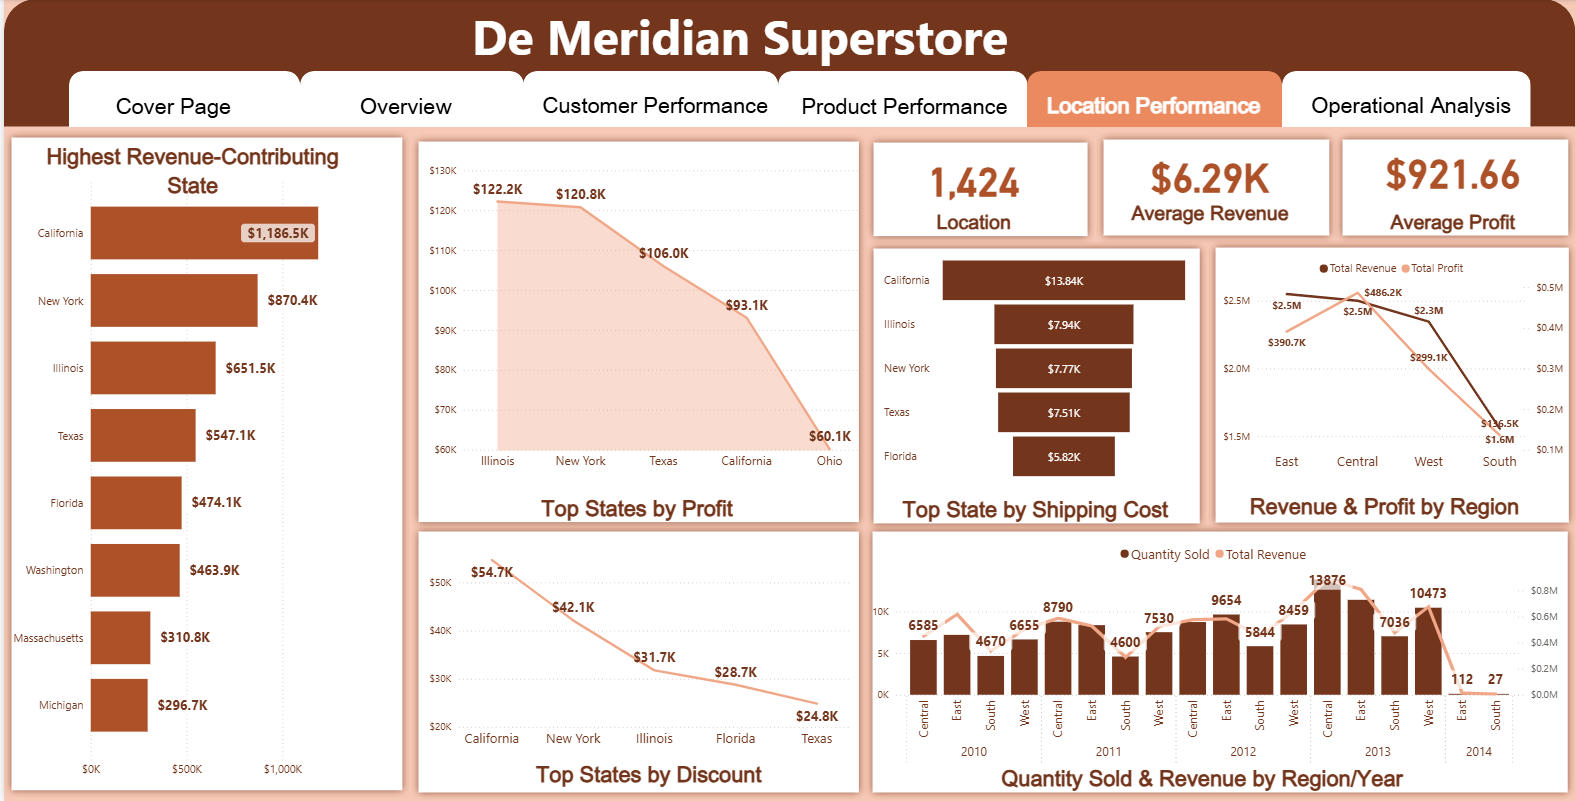

The dashboard page shown, as its layout file describes it:
{"tool":"powerbi","page":{"name":"Location Performance","canvas":[1920,980],"ordinal":4},"visuals":[{"type":"shape","box":[0,160,496,816],"z":0,"group":"g1"},{"type":"shape","box":[0,0,1920,156.1],"z":1000,"group":"g1"},{"type":"shape","box":[79,87.8,282.5,68.8],"z":2000,"group":"g1"},{"type":"shape","box":[361.5,87.8,273.8,68.8],"z":3000,"group":"g1"},{"type":"shape","box":[634.2,88,312,68.5],"z":4000,"group":"g1"},{"type":"shape","box":[946,87.8,305,68.8],"z":5000,"group":"g1"},{"type":"shape","box":[1250,88,311.8,68.5],"z":6000,"group":"g1"},{"type":"shape","box":[1561.8,88,304,68.5],"z":7000,"group":"g1"},{"type":"textbox","box":[566.7,0,685.7,89.3],"z":9000,"group":"g1"},{"type":"textbox","box":[107.7,107.5,198.8,48.8],"z":10000,"group":"g1"},{"type":"textbox","box":[406.4,108.1,167.5,47.5],"z":11000,"group":"g1"},{"type":"textbox","box":[646.6,106.2,299,51.1],"z":12000,"group":"g1"},{"type":"textbox","box":[965.2,107.5,270,48.8],"z":13000,"group":"g1"},{"type":"textbox","box":[1265.6,106.2,278,51.1],"z":14000,"group":"g1"},{"type":"textbox","box":[1570.8,106.6,296.3,50.5],"z":15000,"group":"g1"},{"type":"shape","box":[1333.9,162.8,294.3,135.7],"z":18000,"group":"g1"},{"type":"shape","box":[1626.7,162.5,294.3,135.7],"z":19000,"group":"g1"},{"type":"shape","box":[497.7,165.1,556.7,483.5],"z":20000,"group":"g1"},{"type":"shape","box":[1053.8,295.3,417.1,354.3],"z":21000,"group":"g1"},{"type":"shape","box":[1471.1,295,450.2,354.5],"z":22000,"group":"g1"},{"type":"shape","box":[497.7,641.6,556.7,337.3],"z":23000,"group":"g1"},{"type":"shape","box":[1052,641.6,868,337.3],"z":24000,"group":"g1"},{"type":"textbox","box":[650.8,599,244.5,47.9],"z":25000,"group":"g1"},{"type":"areaChart","fields":{"Y":["Measures (2).Total Profit"],"Category":["Locations.State or Province"]},"box":[514.2,195.8,540.1,389.2],"z":26000,"group":"g1"},{"type":"textbox","box":[1080,600,360,48],"z":27000,"group":"g1"},{"type":"clusteredBarChart","fields":{"Y":["Measures (2).Total Revenue"],"Category":["Locations.State or Province"]},"box":[0,208,480,752],"z":28000,"group":"g1"},{"type":"textbox","box":[18.1,168.2,424.4,81.5],"z":29000,"group":"g1"},{"type":"funnel","fields":{"Category":["Locations.State or Province"],"Y":["Sum(Shipping Event.Shipping Cost)"]},"box":[1070.1,309.6,382.9,284.3],"z":30000,"group":"g1"},{"type":"lineClusteredColumnComboChart","fields":{"Category":["Calendar.Date.Variation.Date Hierarchy.Year","Locations.Region"],"Y":["Measures (2).Quantity Sold"],"Y2":["Measures (2).Total Revenue"]},"box":[1056,656,848,288],"z":31000,"group":"g1"},{"type":"lineChart","fields":{"Category":["Locations.Region"],"Y2":["Measures (2).Total Profit"],"Y":["Measures (2).Total Revenue"]},"box":[1485.2,309.6,425.7,277.1],"z":32000,"group":"g1"},{"type":"textbox","box":[1514.3,595.7,345.8,52.5],"z":33000,"group":"g1"},{"type":"textbox","box":[1193.7,928.7,540.3,49.8],"z":34000,"group":"g1"},{"type":"textbox","box":[1108.2,249.9,155.7,40],"z":35000,"group":"g1"},{"type":"textbox","box":[1675.7,249.9,190,44.3],"z":36000,"group":"g1"},{"type":"card","fields":{"Values":["CountNonNull(Customers.Customer ID)"]},"box":[1117.9,178.8,143,70.8],"z":37000,"group":"g1"},{"type":"card","fields":{"Values":["Measures (2).Average Profit by Location"]},"box":[1667.8,172.8,205.7,71.4],"z":38000,"group":"g1"},{"type":"shape","box":[1053.9,165.6,280,132.9],"z":39000,"group":"g1"},{"type":"textbox","box":[1363.9,239.9,220,48.6],"z":40000,"group":"g1"},{"type":"card","fields":{"Values":["Measures (2).Avg Revenue by Location"]},"box":[1382.5,177.1,182.9,71.4],"z":41000,"group":"g1"},{"type":"textbox","box":[1107,249.9,155.7,42.9],"z":42000,"group":"g1"},{"type":"card","fields":{"Values":["CountNonNull(Locations.Location ID)"]},"box":[1113.4,181.6,143,70.8],"z":43000,"group":"g1"},{"type":"lineChart","fields":{"Y":["Measures (2).Discount Impact"],"Category":["Locations.State or Province"]},"box":[514.2,669.9,523.6,254.7],"z":44000,"group":"g1"},{"type":"textbox","box":[618.4,923.8,339,49.2],"z":45000,"group":"g1"},{"type":"actionButton","box":[81.4,90,278.6,67.1],"z":46000,"group":"g1"},{"type":"actionButton","box":[362.9,90,268.6,67.1],"z":47000,"group":"g1"},{"type":"actionButton","box":[635.7,91.4,305.7,67.1],"z":48000,"group":"g1"},{"type":"actionButton","box":[947.1,91.4,305.7,67.1],"z":49000,"group":"g1"},{"type":"actionButton","box":[1255.7,91.4,305.7,67.1],"z":50000,"group":"g1"},{"type":"actionButton","box":[1561.4,91.4,305.7,67.1],"z":51000,"group":"g1"},{"type":"group","id":"g1","title":"Group 1","box":[0,0,1921.3,978.9],"z":51001}]}

Visuals, with their boxes in screenshot pixels (x1, y1, x2, y2), scaled from the page's 1920x980 canvas onto the 1576x801 screenshot:
shape: <region>0, 131, 407, 798</region>
shape: <region>0, 0, 1575, 128</region>
shape: <region>65, 72, 297, 128</region>
shape: <region>297, 72, 521, 128</region>
shape: <region>521, 72, 777, 128</region>
shape: <region>777, 72, 1027, 128</region>
shape: <region>1026, 72, 1282, 128</region>
shape: <region>1282, 72, 1532, 128</region>
textbox: <region>465, 0, 1028, 73</region>
textbox: <region>88, 88, 252, 128</region>
textbox: <region>334, 88, 471, 127</region>
textbox: <region>531, 87, 776, 129</region>
textbox: <region>792, 88, 1014, 128</region>
textbox: <region>1039, 87, 1267, 129</region>
textbox: <region>1289, 87, 1533, 128</region>
shape: <region>1095, 133, 1336, 244</region>
shape: <region>1335, 133, 1575, 244</region>
shape: <region>409, 135, 865, 530</region>
shape: <region>865, 241, 1207, 531</region>
shape: <region>1208, 241, 1575, 531</region>
shape: <region>409, 524, 865, 800</region>
shape: <region>864, 524, 1575, 800</region>
textbox: <region>534, 490, 735, 529</region>
areaChart - Measures (2).Total Profit x Locations.State or Province: <region>422, 160, 865, 478</region>
textbox: <region>886, 490, 1182, 530</region>
clusteredBarChart - Measures (2).Total Revenue x Locations.State or Province: <region>0, 170, 394, 785</region>
textbox: <region>15, 137, 363, 204</region>
funnel - Locations.State or Province x Sum(Shipping Event.Shipping Cost): <region>878, 253, 1193, 485</region>
lineClusteredColumnComboChart - Calendar.Date.Variation.Date Hierarchy.Year x Locations.Region: <region>867, 536, 1563, 772</region>
lineChart - Locations.Region x Measures (2).Total Profit: <region>1219, 253, 1569, 480</region>
textbox: <region>1243, 487, 1527, 530</region>
textbox: <region>980, 759, 1423, 800</region>
textbox: <region>910, 204, 1037, 237</region>
textbox: <region>1375, 204, 1531, 240</region>
card - CountNonNull(Customers.Customer ID): <region>918, 146, 1035, 204</region>
card - Measures (2).Average Profit by Location: <region>1369, 141, 1538, 200</region>
shape: <region>865, 135, 1095, 244</region>
textbox: <region>1120, 196, 1300, 236</region>
card - Measures (2).Avg Revenue by Location: <region>1135, 145, 1285, 203</region>
textbox: <region>909, 204, 1036, 239</region>
card - CountNonNull(Locations.Location ID): <region>914, 148, 1031, 206</region>
lineChart - Measures (2).Discount Impact x Locations.State or Province: <region>422, 548, 852, 756</region>
textbox: <region>508, 755, 786, 795</region>
actionButton: <region>67, 74, 296, 128</region>
actionButton: <region>298, 74, 518, 128</region>
actionButton: <region>522, 75, 773, 130</region>
actionButton: <region>777, 75, 1028, 130</region>
actionButton: <region>1031, 75, 1282, 130</region>
actionButton: <region>1282, 75, 1533, 130</region>
"Group 1" group: <region>0, 0, 1575, 800</region>
